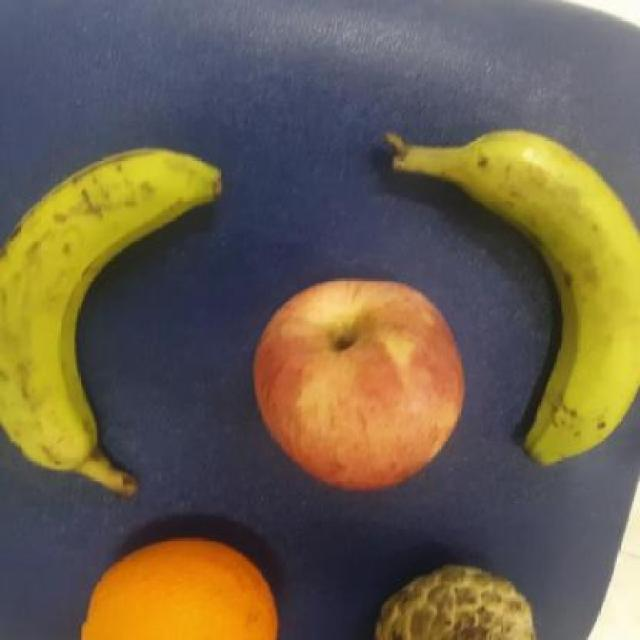apple: (248, 276, 468, 492)
banana: (0, 144, 238, 478), (452, 121, 639, 470)
oren: (80, 535, 282, 640)
sugar apple: (368, 556, 544, 639)
